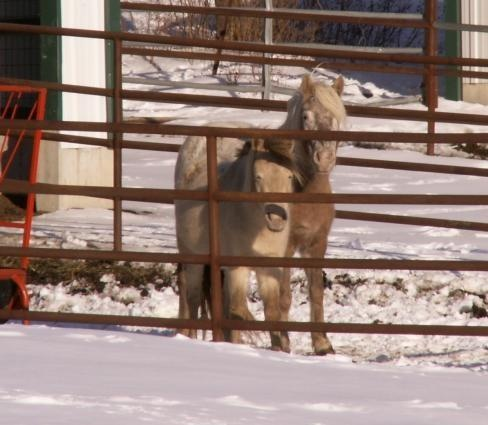horse: (176, 74, 345, 356), (176, 139, 294, 353)
